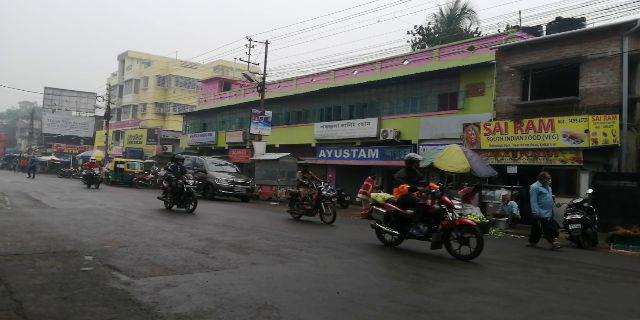Motorbike: (357, 156, 489, 271), (286, 165, 340, 220), (155, 152, 202, 212)
